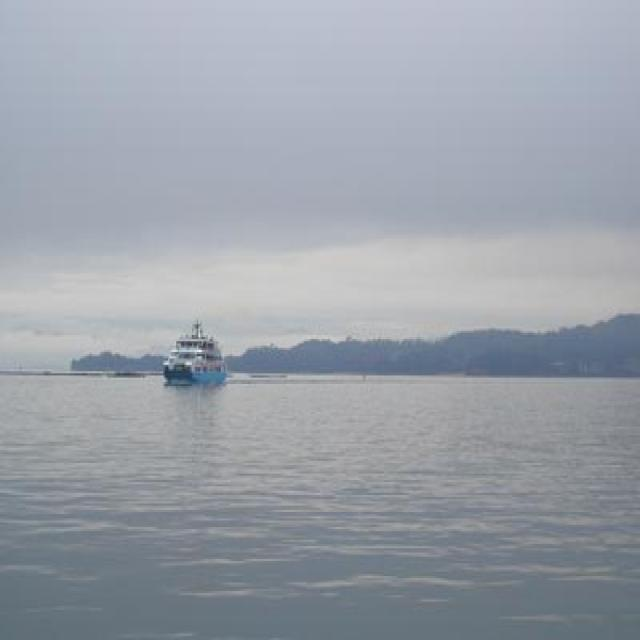passenger ship: (158, 327, 228, 385)
